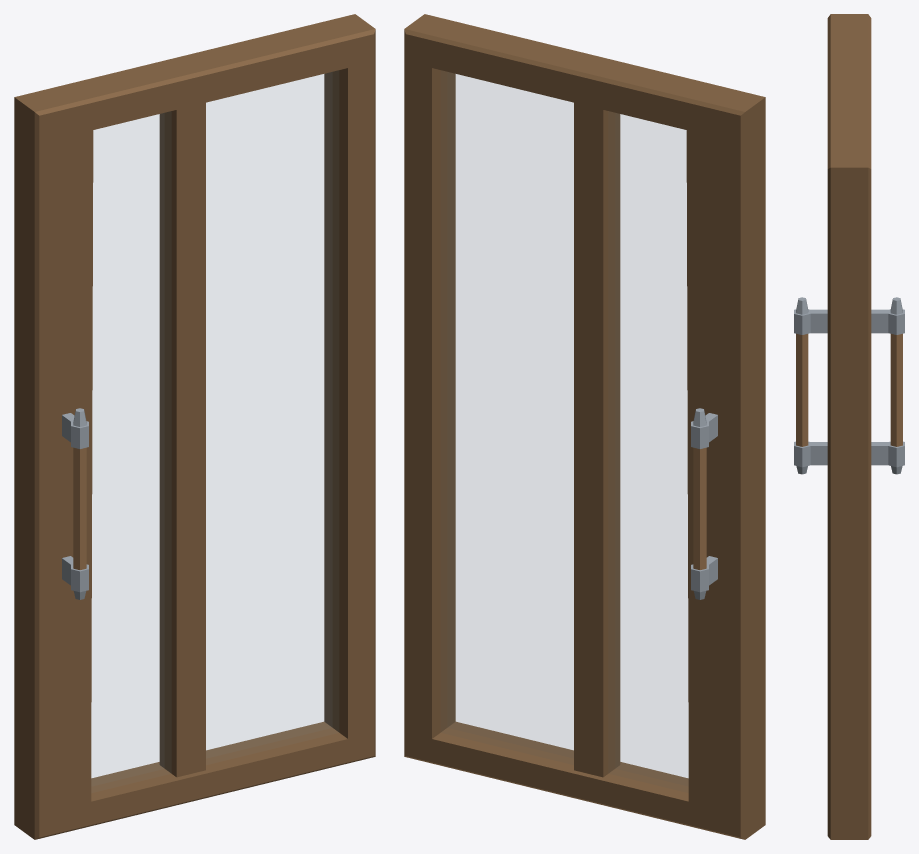
Rendered from SM_Buildings_Skyscraper_05_Door_R.fbx.
The picture shows the model from 3 angles, left to right: view 1: azimuth 30°, elevation 25°; view 2: azimuth 150°, elevation 25°; view 3: azimuth 270°, elevation 25°; orthographic projection. The views are drawn at different scales.
Parts seen in each view (by area): view 1: SM_Buildings_Skyscraper_05_Door_R; view 2: SM_Buildings_Skyscraper_05_Door_R; view 3: SM_Buildings_Skyscraper_05_Door_R.
Boxes of the visible parts, bbox=[...] form: SM_Buildings_Skyscraper_05_Door_R: bbox=[14, 14, 375, 839]; SM_Buildings_Skyscraper_05_Door_R: bbox=[404, 14, 765, 839]; SM_Buildings_Skyscraper_05_Door_R: bbox=[794, 14, 904, 839].
Bounding box in the file's own units: 1.16 × 2.37 × 0.3543.
